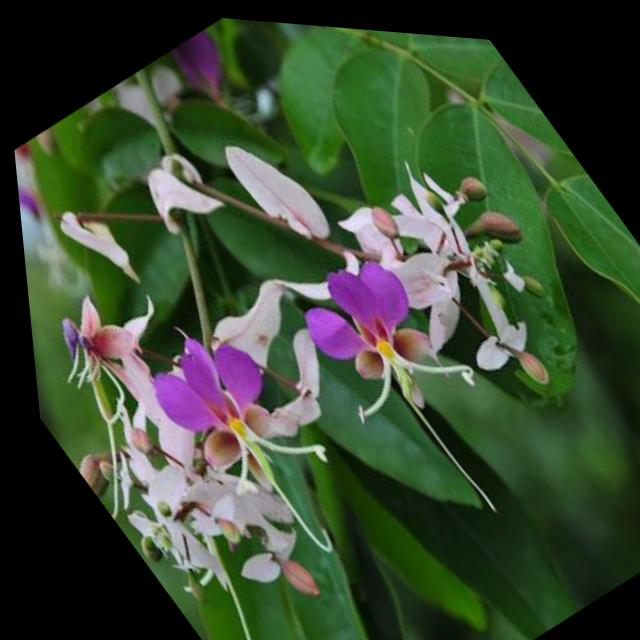Flower: (106, 286, 356, 549), (254, 215, 492, 459)
